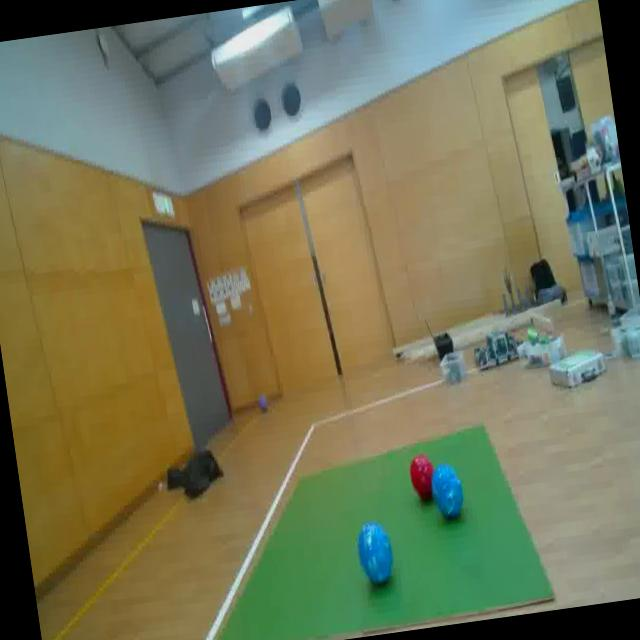blue_ball: (353, 520, 398, 590), (427, 459, 468, 524)
purple_ball: (256, 392, 270, 414)
red_ball: (408, 452, 436, 499)
